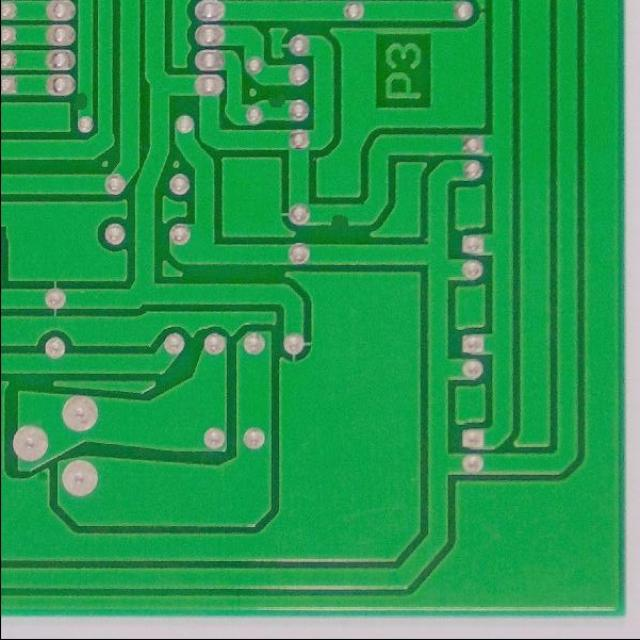MouseBite: (322, 209, 356, 229), (261, 92, 291, 110), (72, 87, 91, 114)
